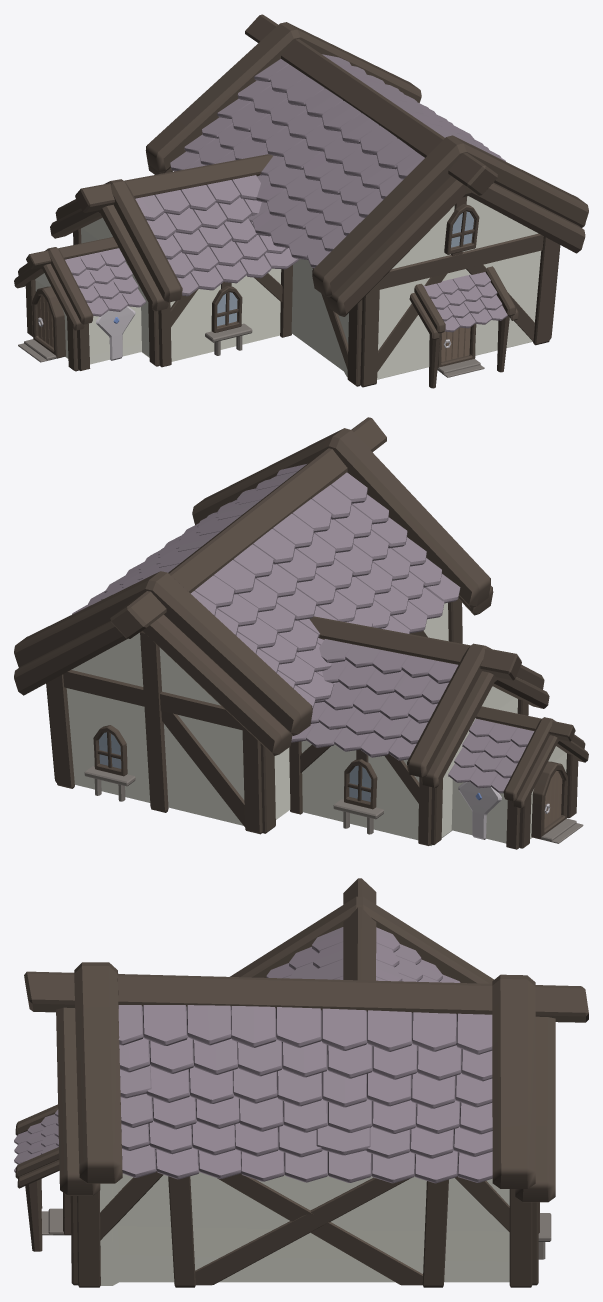
Rendered from pink house.fbx.
3 renders of one model, top to bottom at view 1: azimuth 30°, elevation 25°; view 2: azimuth 150°, elevation 25°; view 3: azimuth 270°, elevation 25°, orthographic. The views are drawn at different scales.
Parts seen in each view (by area): view 1: polySurface5571; view 2: polySurface5571; view 3: polySurface5571.
Part boxes in pixels (x1,y1,x2,y2): polySurface5571: (14, 14, 588, 388); polySurface5571: (14, 417, 588, 849); polySurface5571: (14, 878, 588, 1287).
Size of the model in its own units: 15.9 by 7.39 by 14.11.
